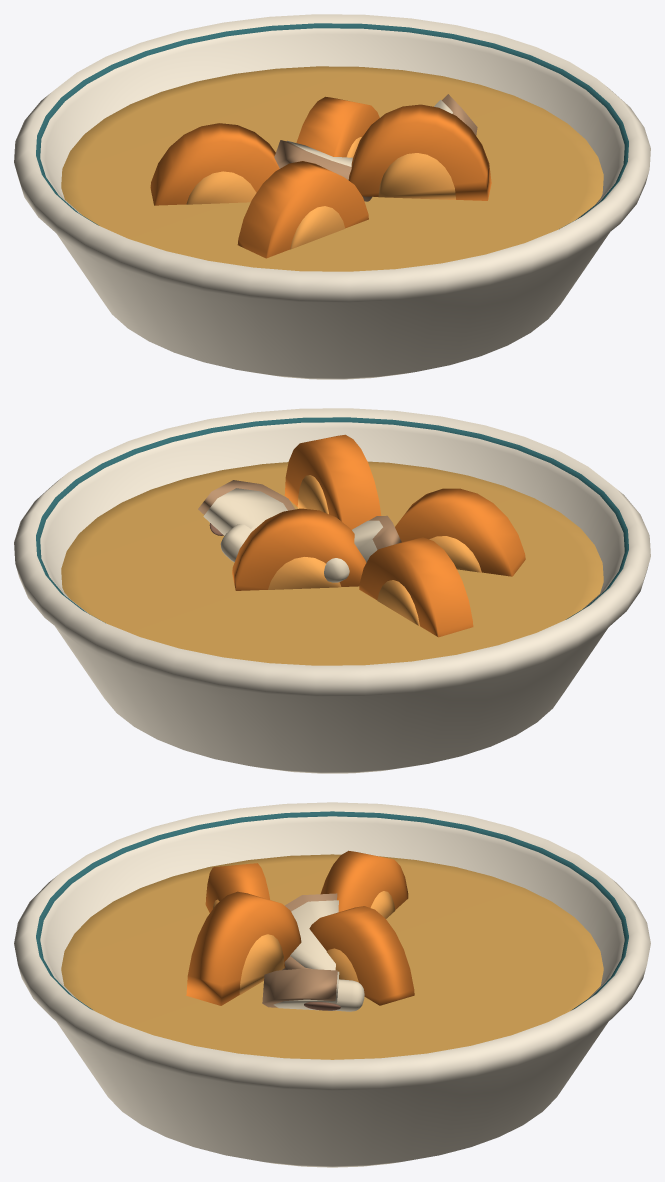
The model's file is dish-soup.obj.
3 renders of one model, top to bottom at view 1: azimuth 30°, elevation 25°; view 2: azimuth 150°, elevation 25°; view 3: azimuth 270°, elevation 25°, orthographic.
Visible parts, largest first — view 1: dish-soup_ivory, dish-soup_soup, dish-soup_carrot, dish-soup_carrotCore, dish-soup_teal, dish-soup_mushroom; view 2: dish-soup_ivory, dish-soup_soup, dish-soup_carrot, dish-soup_teal, dish-soup_carrotCore, dish-soup_mushroomFlesh, dish-soup_mushroom; view 3: dish-soup_ivory, dish-soup_soup, dish-soup_carrot, dish-soup_teal, dish-soup_mushroomFlesh, dish-soup_mushroom, dish-soup_carrotCore.
Boxes of the visible parts, bbox=[...] form: dish-soup_ivory: bbox=[14, 14, 650, 379]; dish-soup_soup: bbox=[61, 66, 603, 271]; dish-soup_carrot: bbox=[150, 96, 491, 258]; dish-soup_carrotCore: bbox=[186, 137, 455, 249]; dish-soup_teal: bbox=[36, 23, 628, 229]; dish-soup_mushroom: bbox=[274, 94, 477, 201]; dish-soup_ivory: bbox=[14, 408, 650, 773]; dish-soup_soup: bbox=[61, 461, 603, 665]; dish-soup_carrot: bbox=[232, 434, 525, 637]; dish-soup_teal: bbox=[36, 417, 628, 623]; dish-soup_carrotCore: bbox=[268, 475, 481, 626]; dish-soup_mushroomFlesh: bbox=[203, 488, 382, 582]; dish-soup_mushroom: bbox=[198, 480, 401, 549]; dish-soup_ivory: bbox=[14, 802, 650, 1167]; dish-soup_soup: bbox=[61, 854, 603, 1059]; dish-soup_carrot: bbox=[186, 850, 414, 1005]; dish-soup_teal: bbox=[36, 811, 628, 1009]; dish-soup_mushroomFlesh: bbox=[273, 900, 364, 1011]; dish-soup_mushroom: bbox=[262, 893, 337, 1007]; dish-soup_carrotCore: bbox=[213, 891, 395, 994].
Bounding box in the file's own units: 0.324 × 0.1168 × 0.324.
